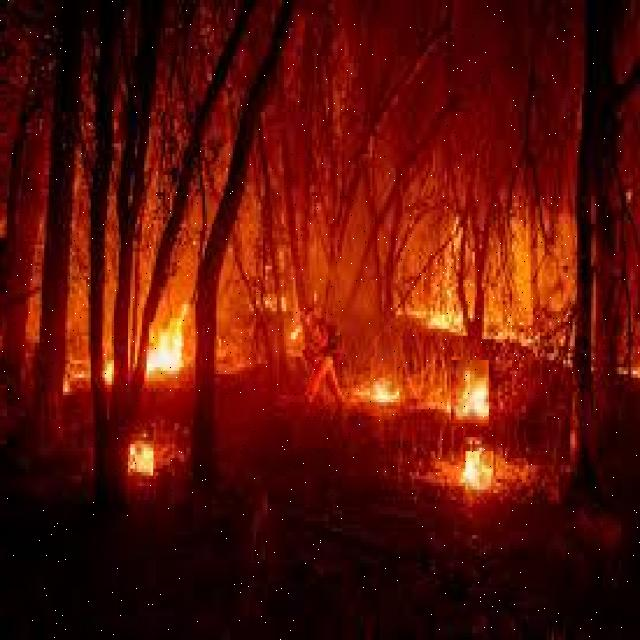fire: (451, 360, 489, 426), (147, 321, 179, 389), (370, 358, 399, 401), (465, 454, 493, 497), (135, 431, 153, 476)
